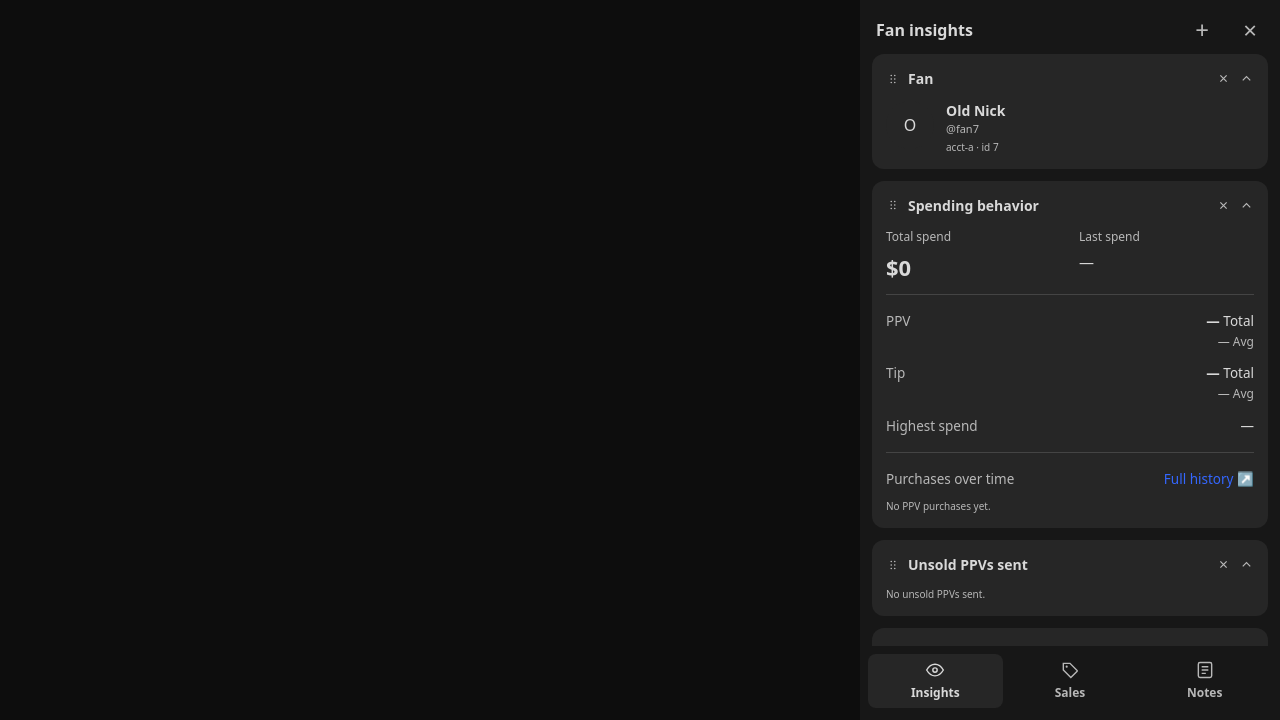
Scenario: Fan insights Sales tab › with insights loaded, Buy rate shows the share of recent PPVs bought, with Highest and Lowest price
This screenshot has width=1280, height=720.
Step 1. Click the tab "Sales" → (1070, 681), box [1003,654,1137,708]
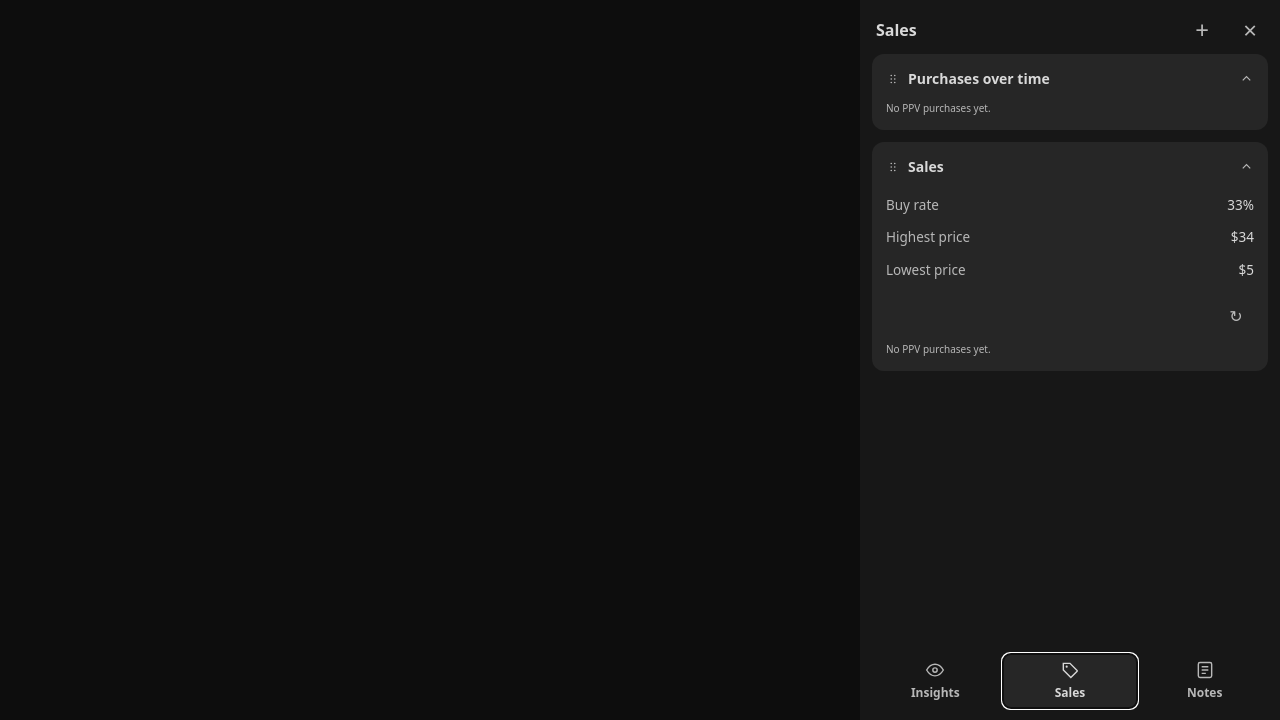
Result: the text titled "10 of the last 30 PPVs bought" is shown at [1227,196,1254,214]
